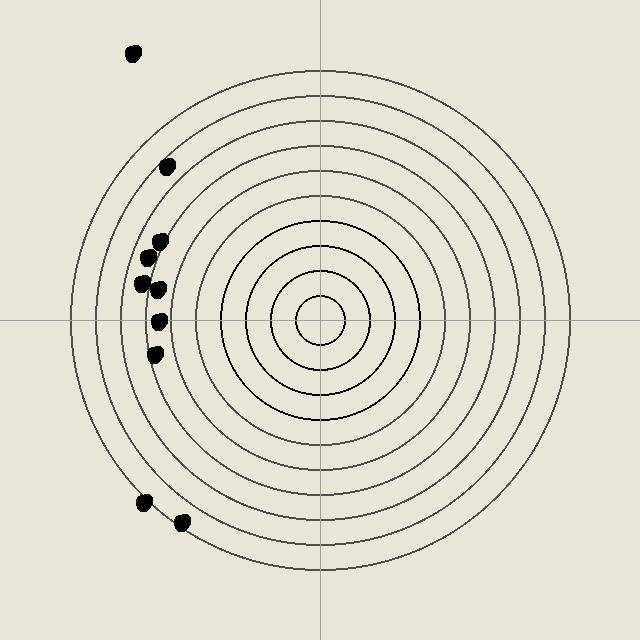vertical_scatter: (122, 43, 142, 63), (148, 311, 168, 331), (144, 344, 164, 364), (131, 273, 151, 293), (149, 231, 169, 251), (156, 156, 176, 176), (147, 279, 167, 299), (137, 247, 157, 267), (171, 512, 191, 532), (133, 492, 153, 512)
